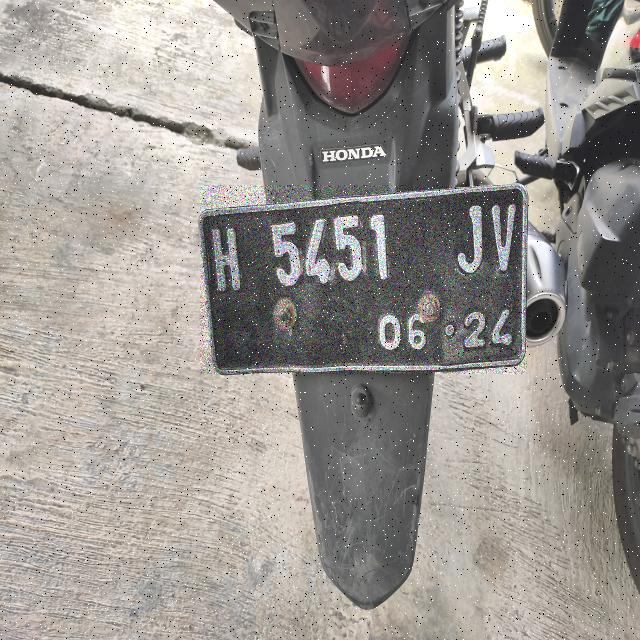plate: (200, 185, 526, 373)
